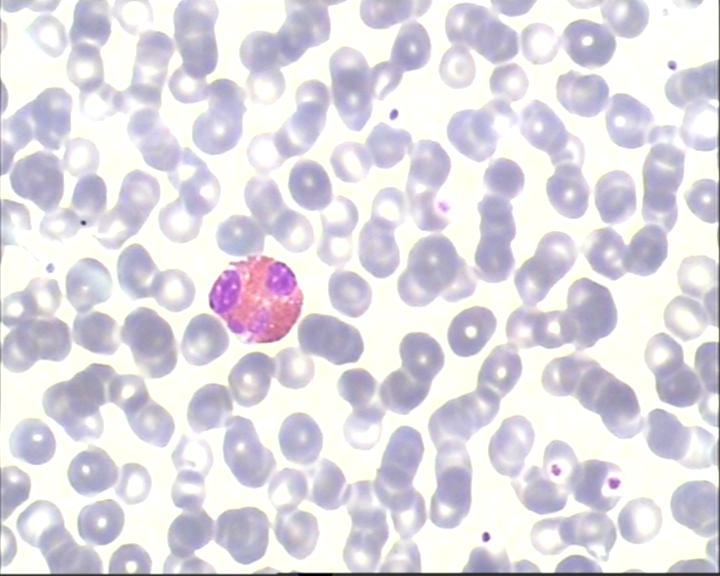eosi: (201, 251, 308, 347)
